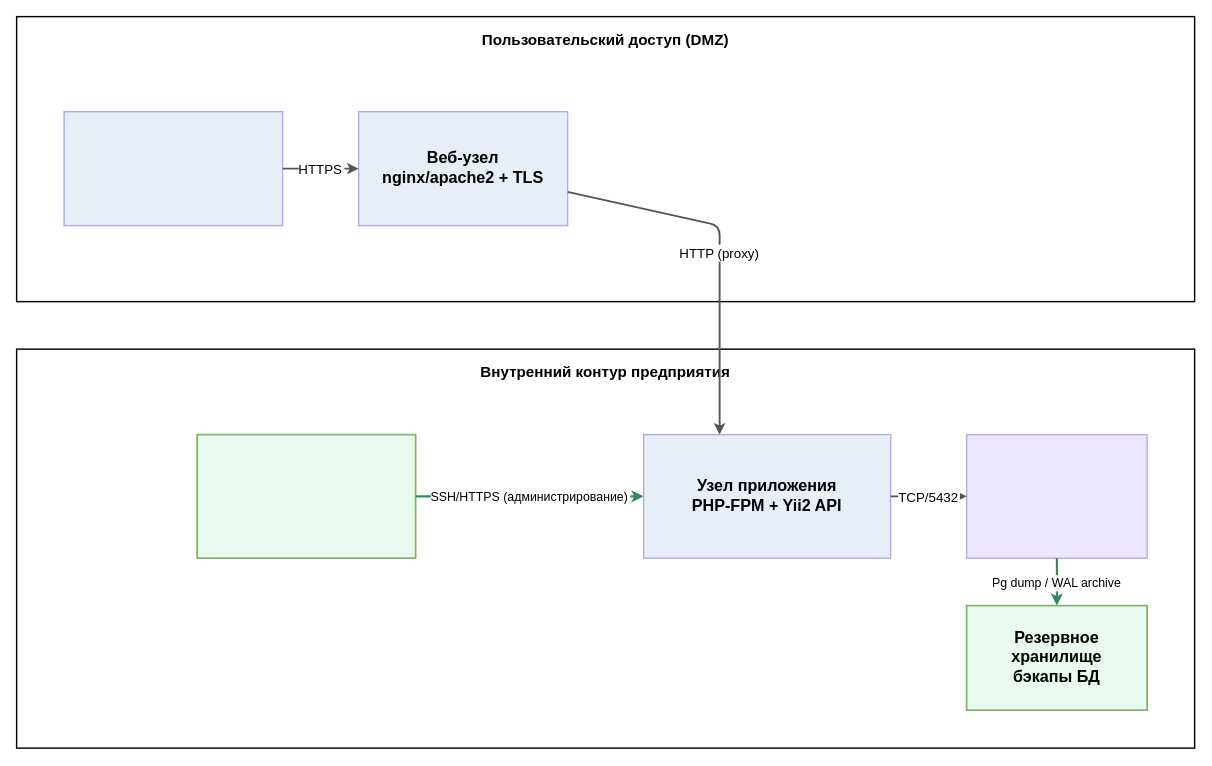
This 1212x766 diagram has some shape labels left out. The shapes that lost their labels are listed below. From the top down, each one's centre as x and y in pixels, then its label:
the point at 173,168: Клиентские узлы браузер пользователей
the point at 306,496: Админ-узел VPN/SSH доступ
the point at 1056,495: Узел БД PostgreSQL
